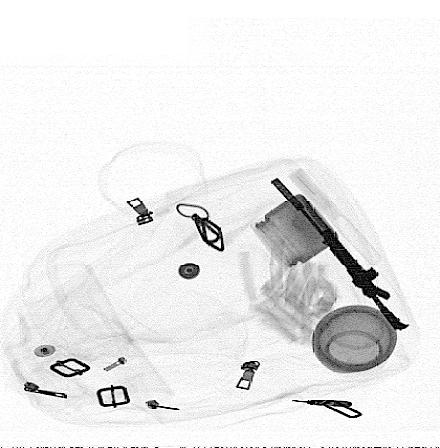Gun: (269, 176, 409, 327)
